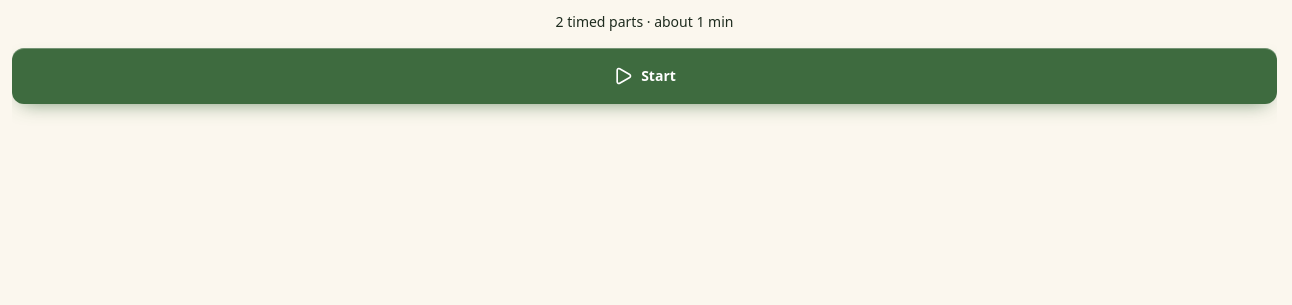
skipping in a timeline (D-072) › skips a rest between holds and goes on to the next hold
Later steps or results of the test are not shown.
Click the button "Start" at x=644, y=76, box [12,48,1277,104]
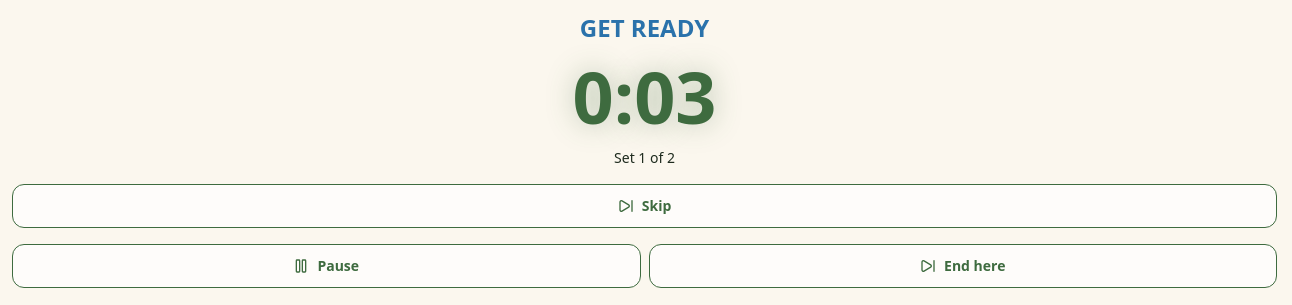
// The lead-in can be skipped too.
Click the button "Skip" at x=644, y=206, box [12,184,1277,228]
Wait 5250 ms
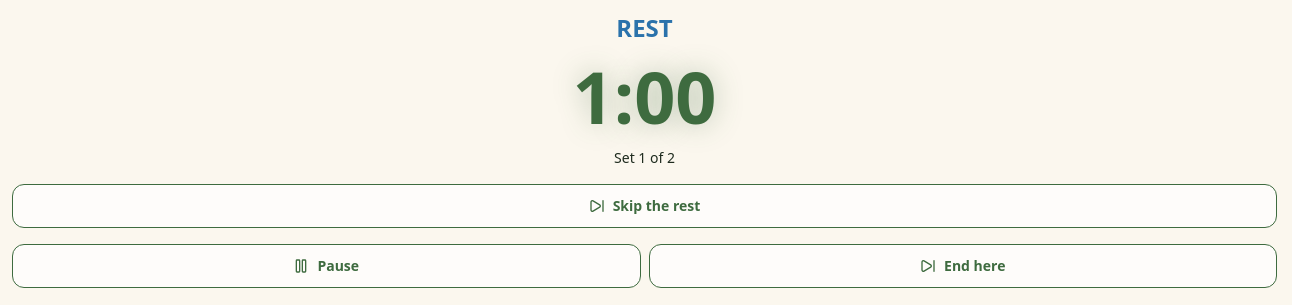
expect the text with test id "segment" reads "Rest": met, box [616,11,673,44]
Click the button "Skip the rest" at x=644, y=206, box [12,184,1277,228]
Wait 5500 ms
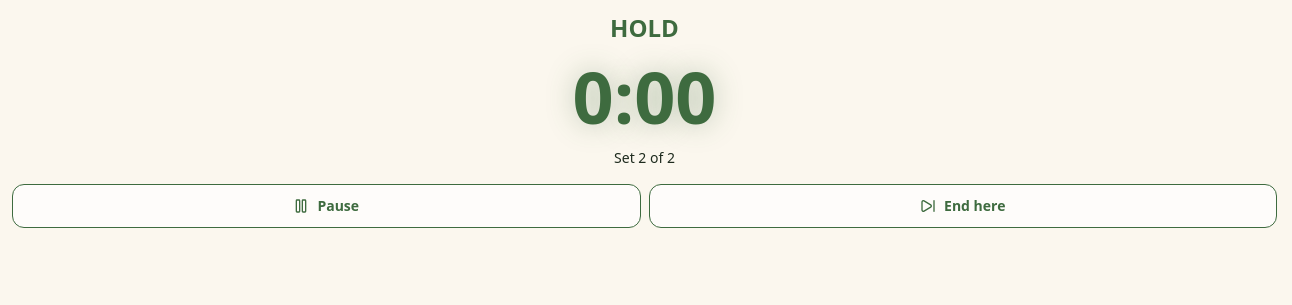
expect the text with test id "segment" reads "Hold": met, box [610,11,679,44]
expect the text with test id "segment-count" reads "Set 2 of 2": met, box [614,148,675,167]
